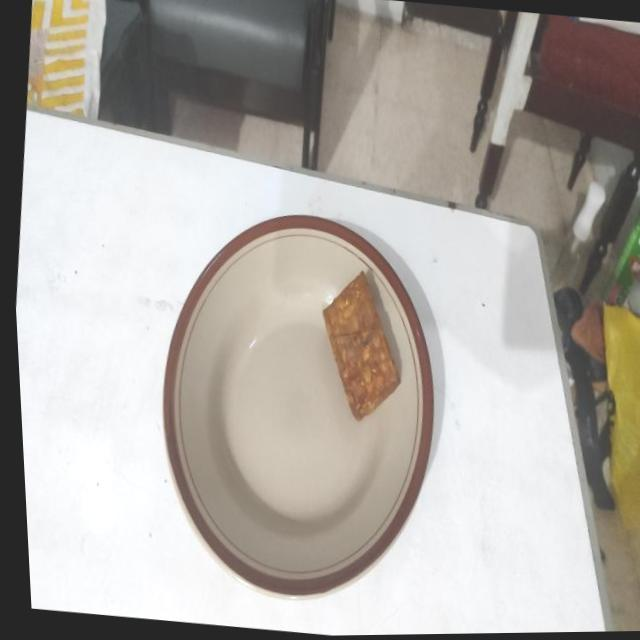tempe_goreng: (322, 270, 400, 420)
